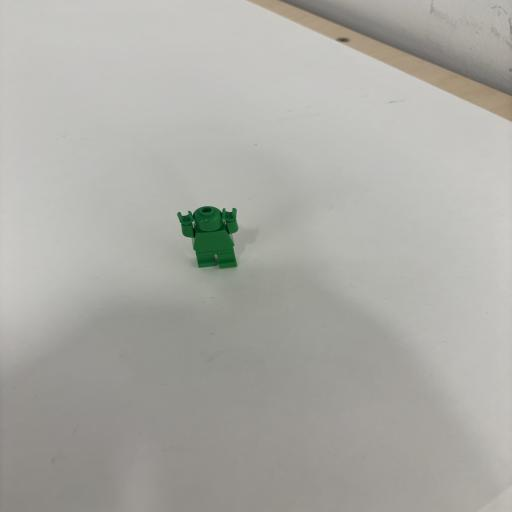green_lego_minifigure: (152, 188, 298, 305)
